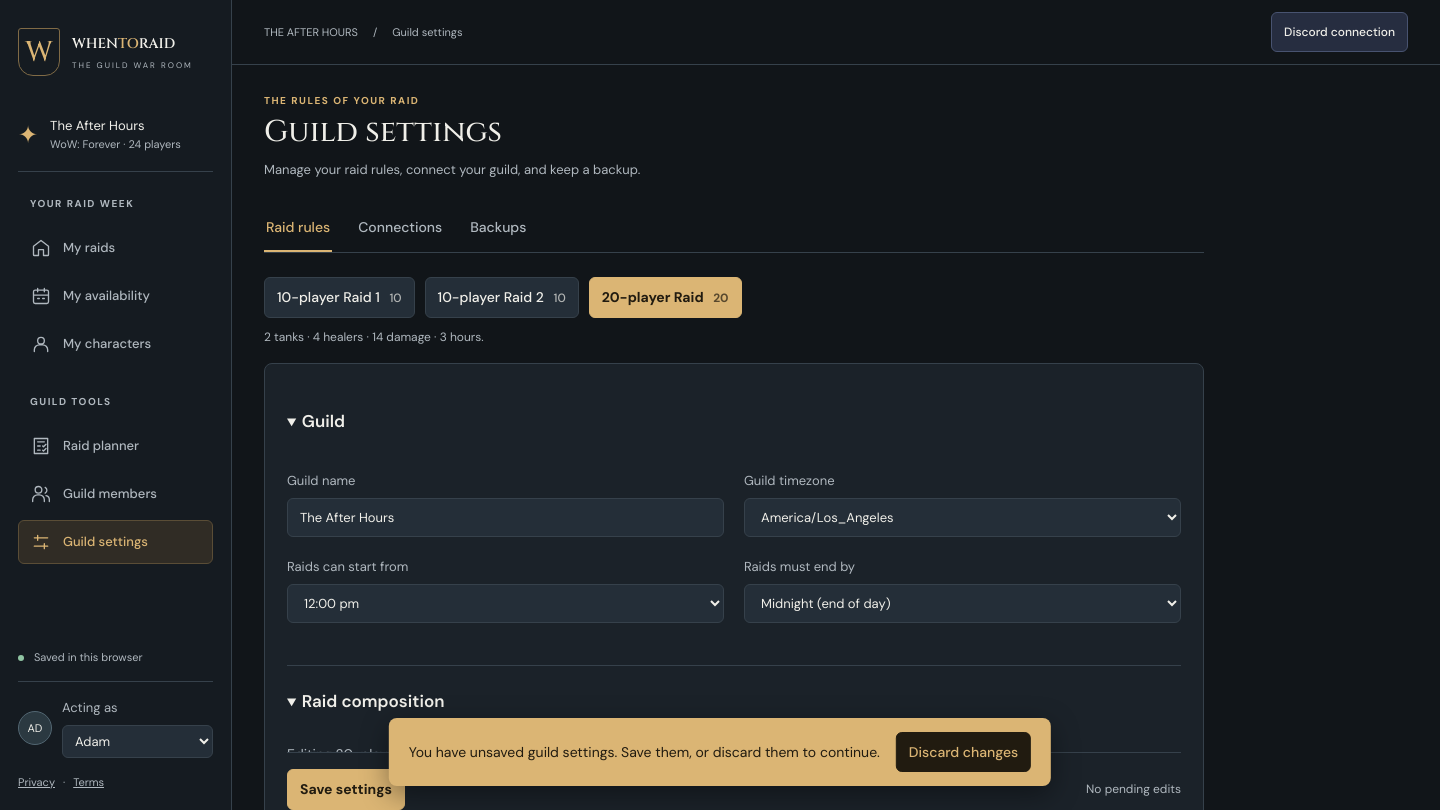
Test: Guild settings: unsaved changes › leaving backups cancels a pending guild replacement confirmation
What coordinates should you click on to do the following:
click the tab "Backups"
I would click on:
 (498, 228)
Its box is x1=468 y1=204 x2=528 y2=252.
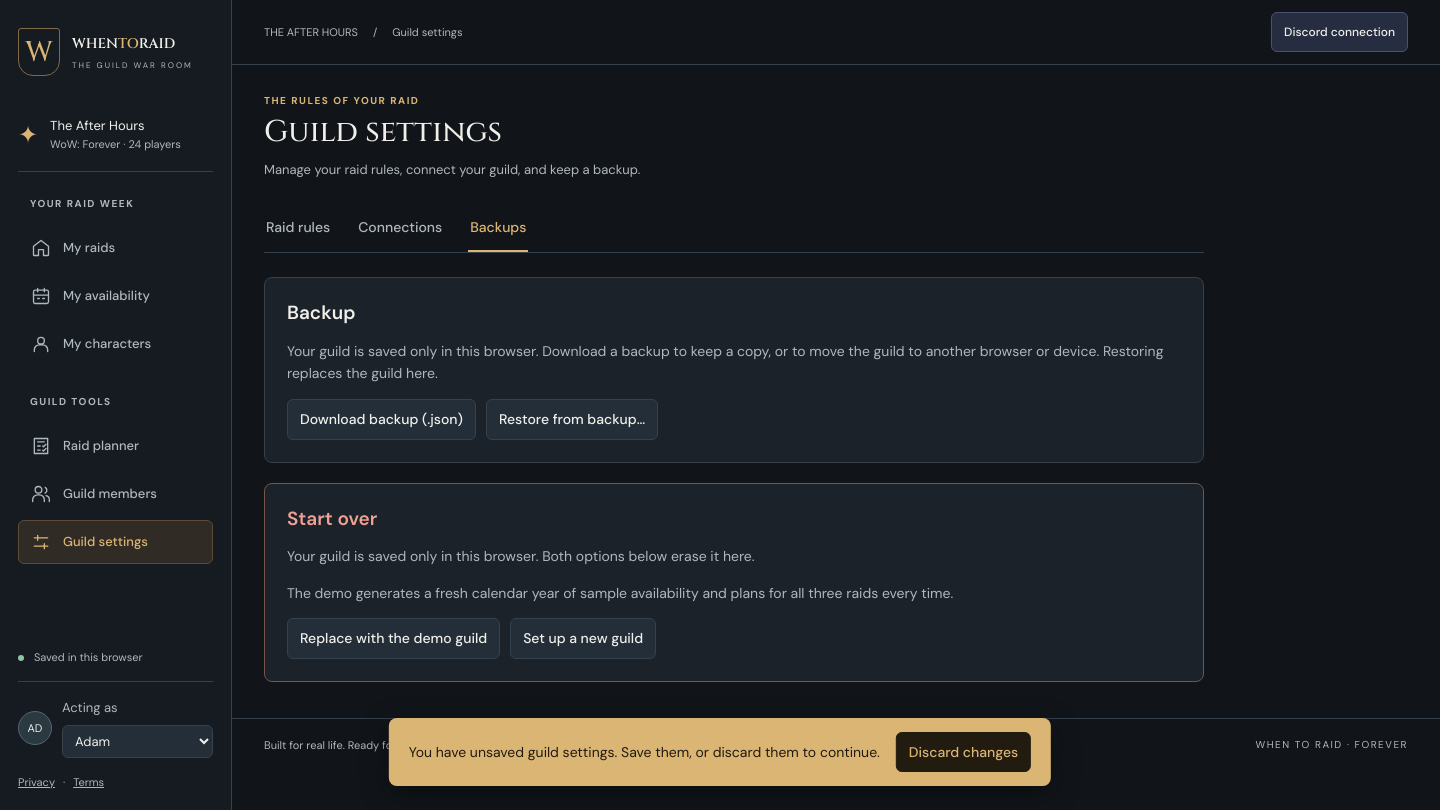
What coordinates should you click on to do the following:
click the button "Replace with the demo guild"
I would click on:
 (394, 639)
Its box is x1=287 y1=618 x2=500 y2=659.
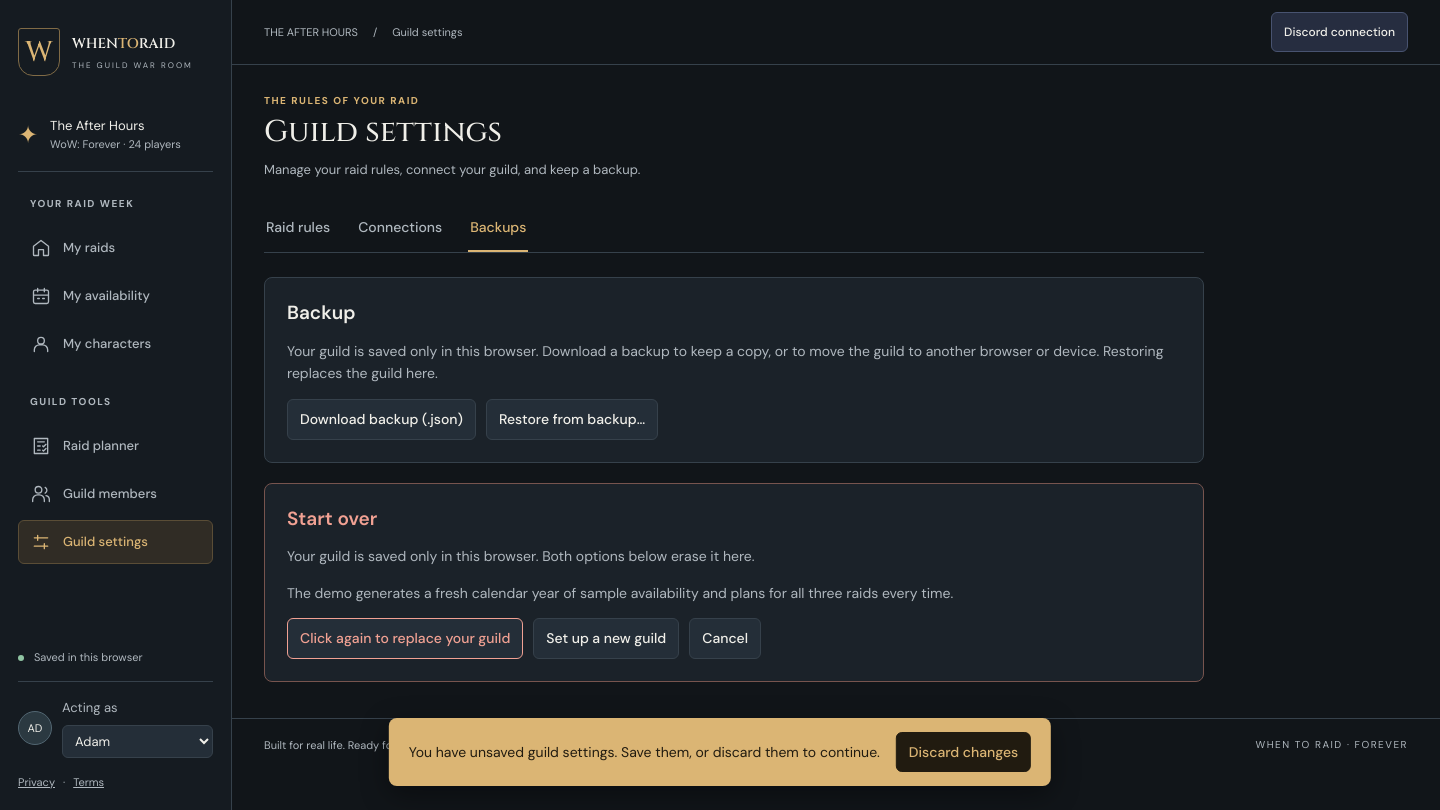
What coordinates should you click on to do the following:
click the tab "Raid rules"
I would click on:
 (298, 228)
Its box is x1=264 y1=204 x2=332 y2=252.
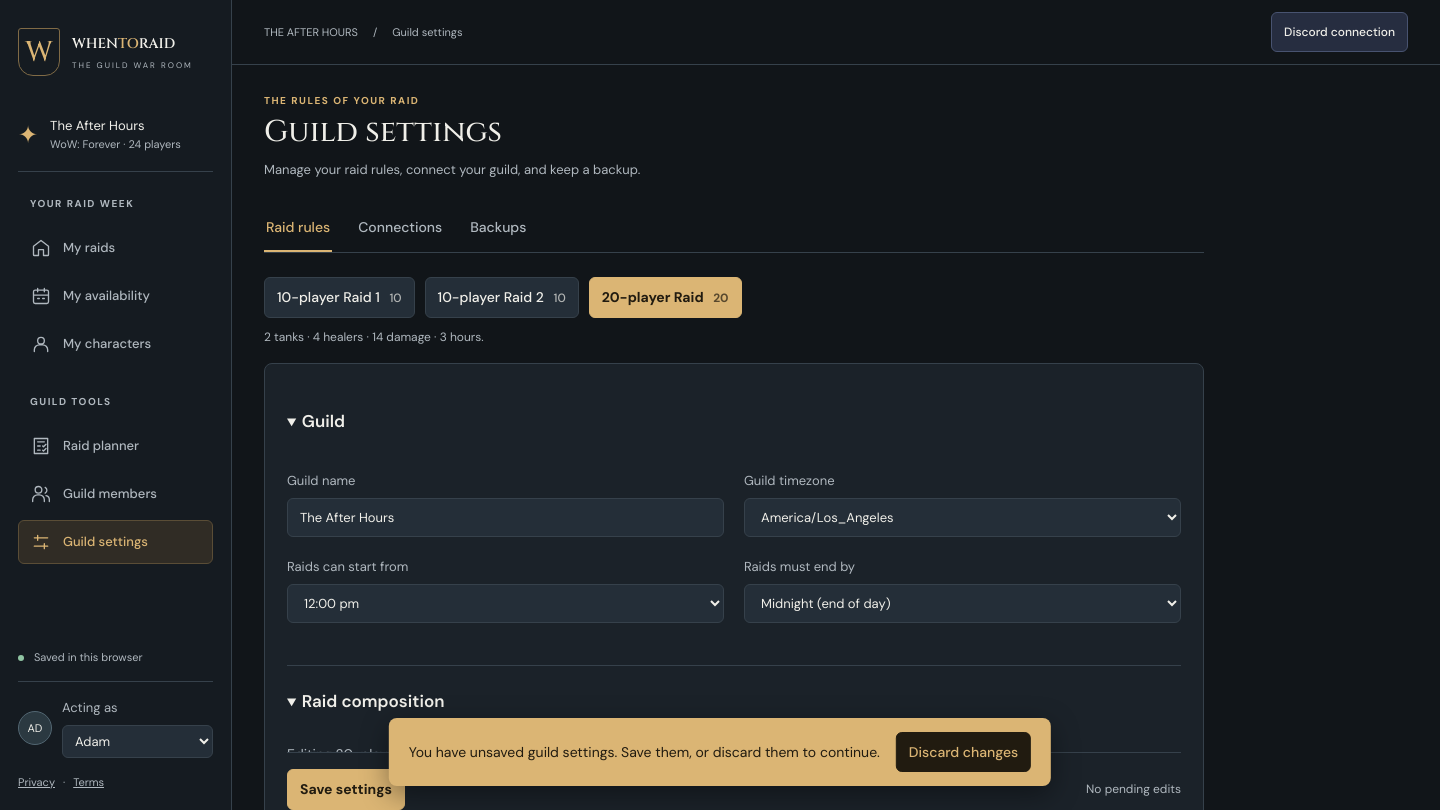
What coordinates should you click on to do the following:
click the tab "Backups"
I would click on:
 (498, 228)
Its box is x1=468 y1=204 x2=528 y2=252.
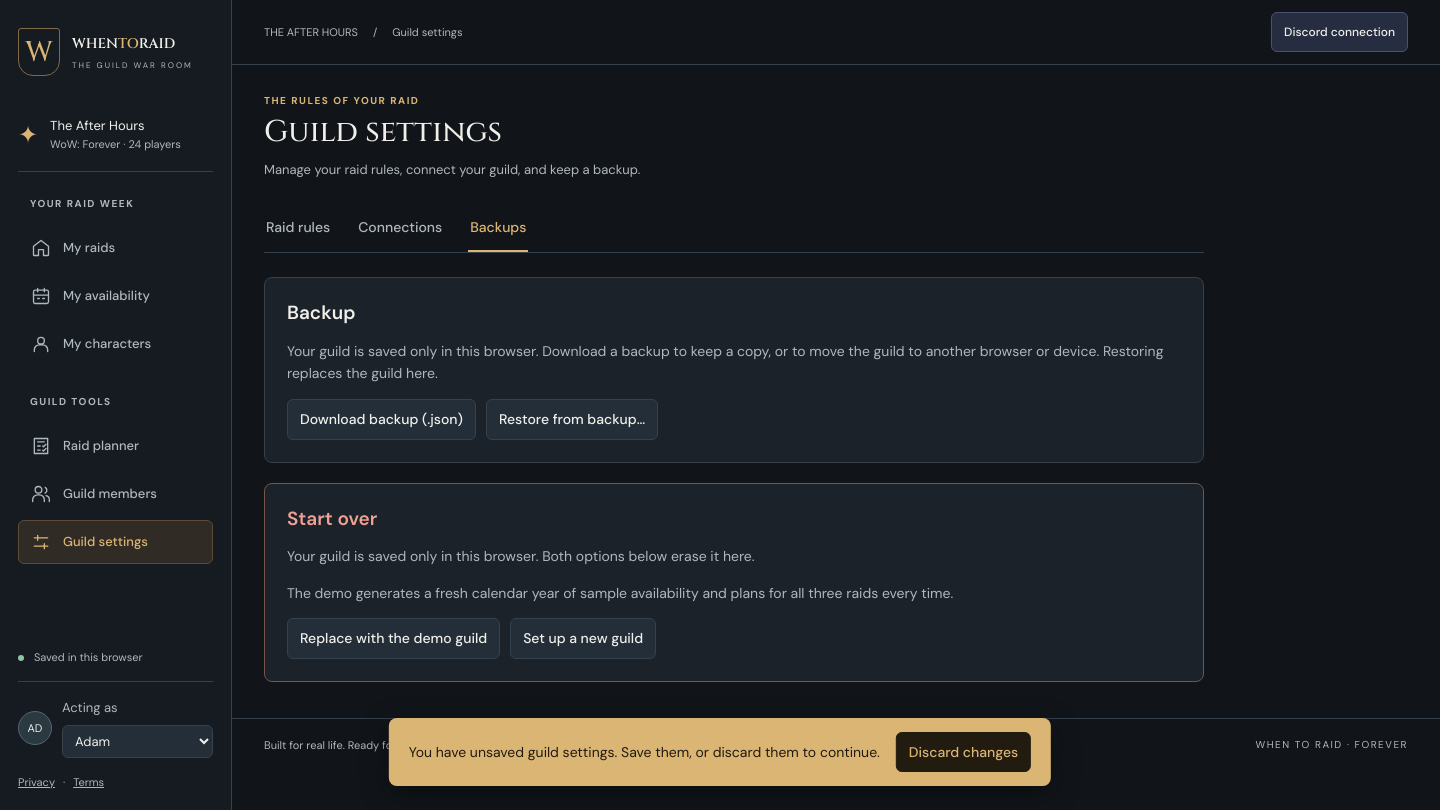
Expected: the button "Click again to replace your guild" is not shown
Expected: the button "Replace with the demo guild" is shown, x1=287 y1=618 x2=500 y2=659
